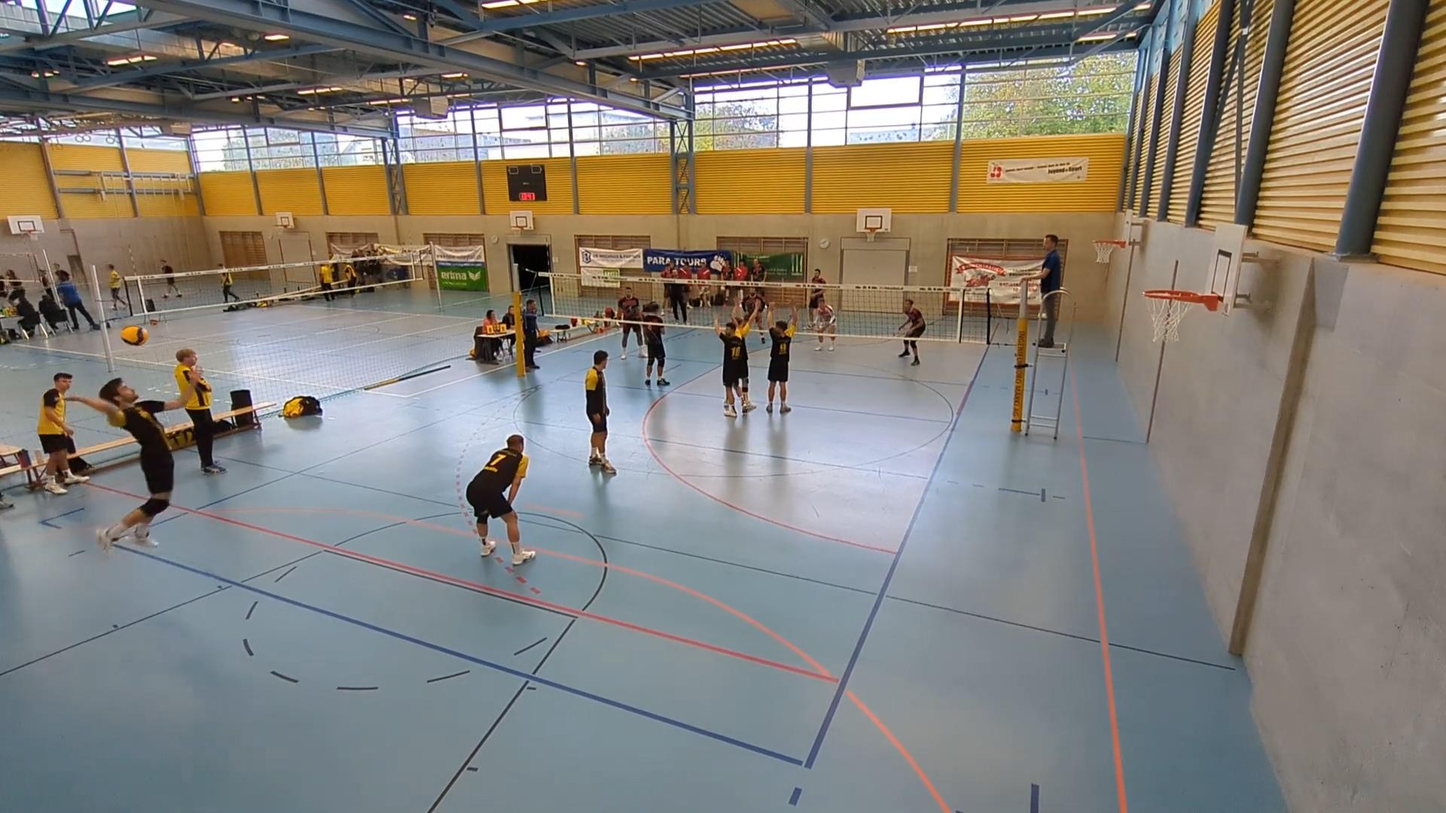battuta: (72, 381, 189, 549)
